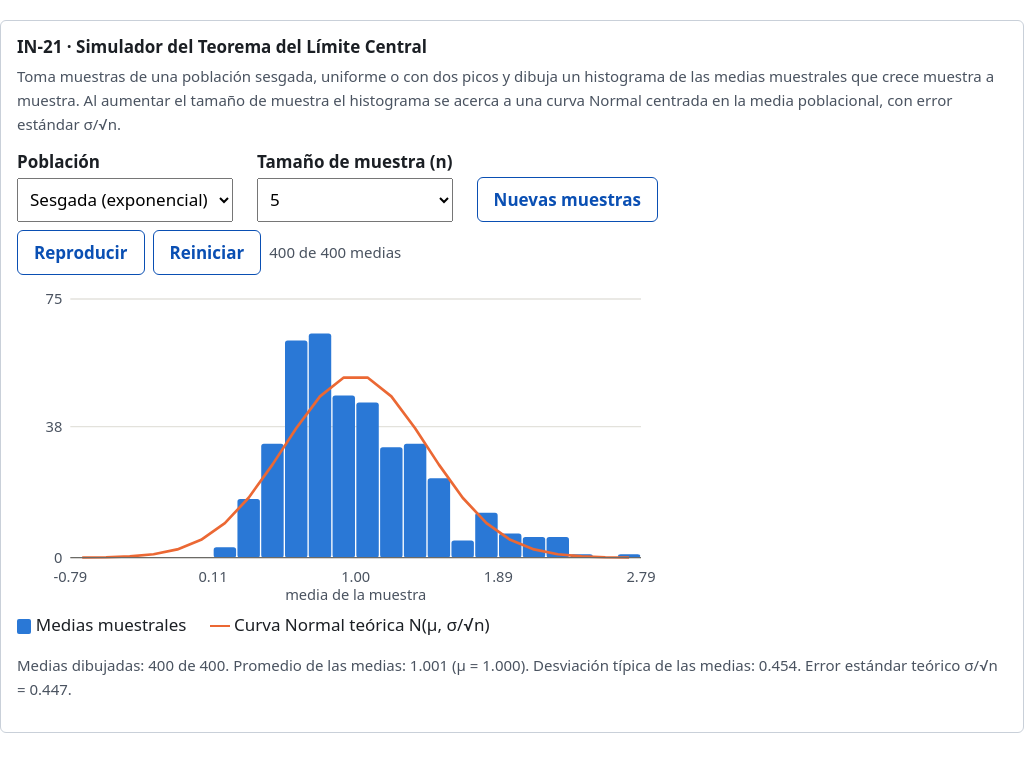
Scenario: IN-21 Teorema del Límite Central › cambiar la población, n o pedir nuevas muestras vuelve a mostrar el resultado completo
Click the button "Reiniciar".
click(207, 252)  # box x1=152 y1=230 x2=261 y2=275
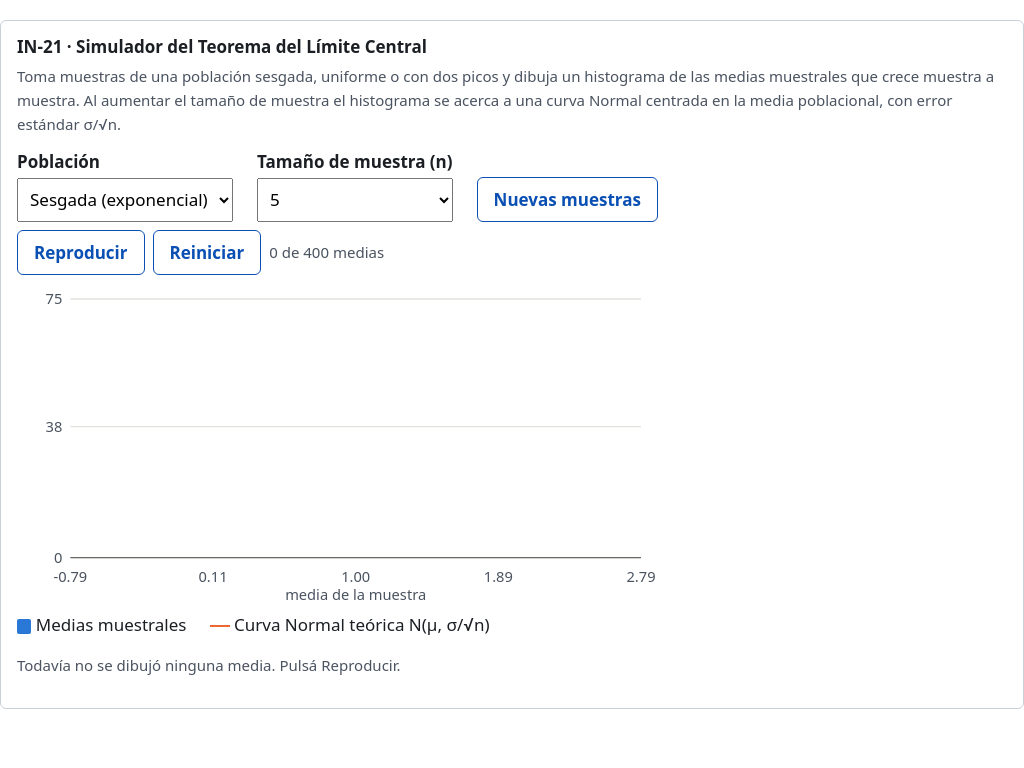
Select "Uniforme" in the dropdown labelled "Población" at (125,200), box x1=17 y1=178 x2=233 y2=222
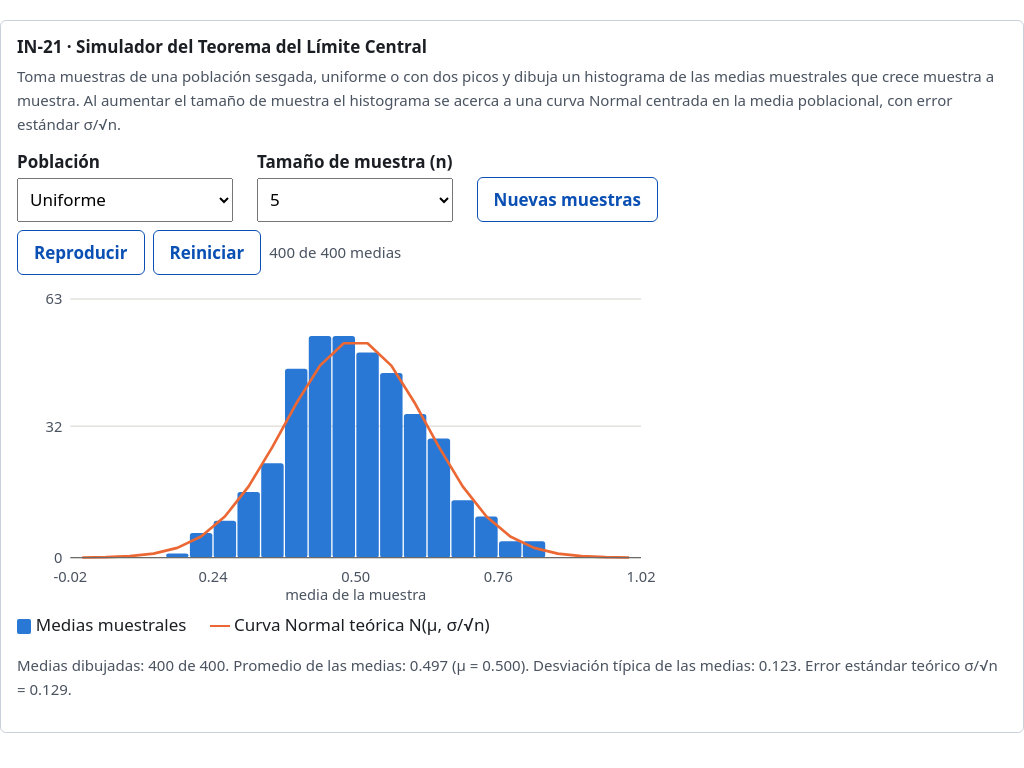
Now the text with class "clt__summary" shows "Medias dibujadas: 400 de 400", box x1=17 y1=655 x2=998 y2=699
Now the text with class "clt__summary" shows "μ = 0.500", box x1=17 y1=655 x2=998 y2=699
Click the button "Reiniciar".
click(207, 252)  # box x1=152 y1=230 x2=261 y2=275
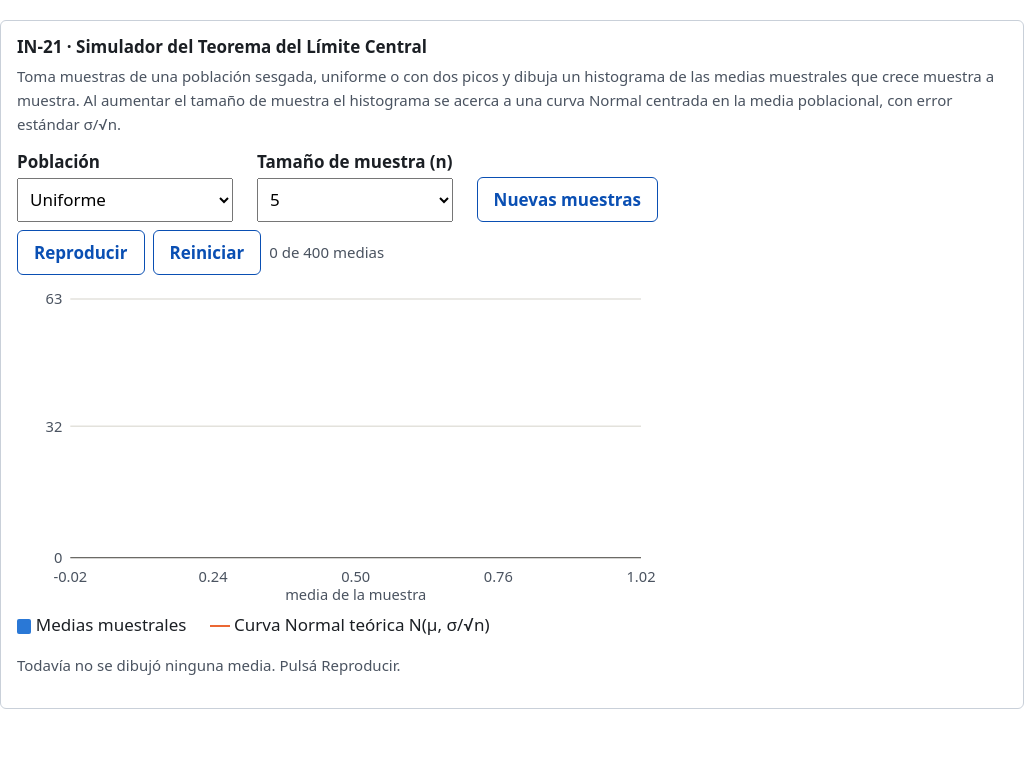
Click the button "Nuevas muestras".
click(567, 199)  # box x1=477 y1=177 x2=658 y2=222
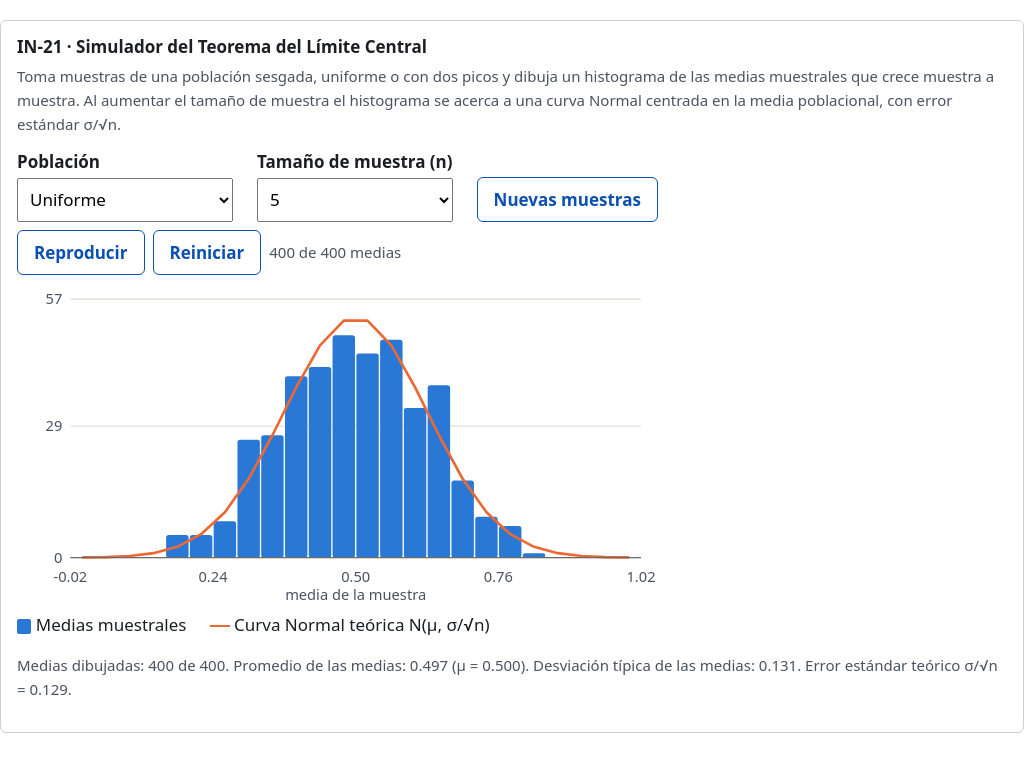
Now the text with class "clt__summary" shows "Medias dibujadas: 400 de 400", box x1=17 y1=655 x2=998 y2=699
